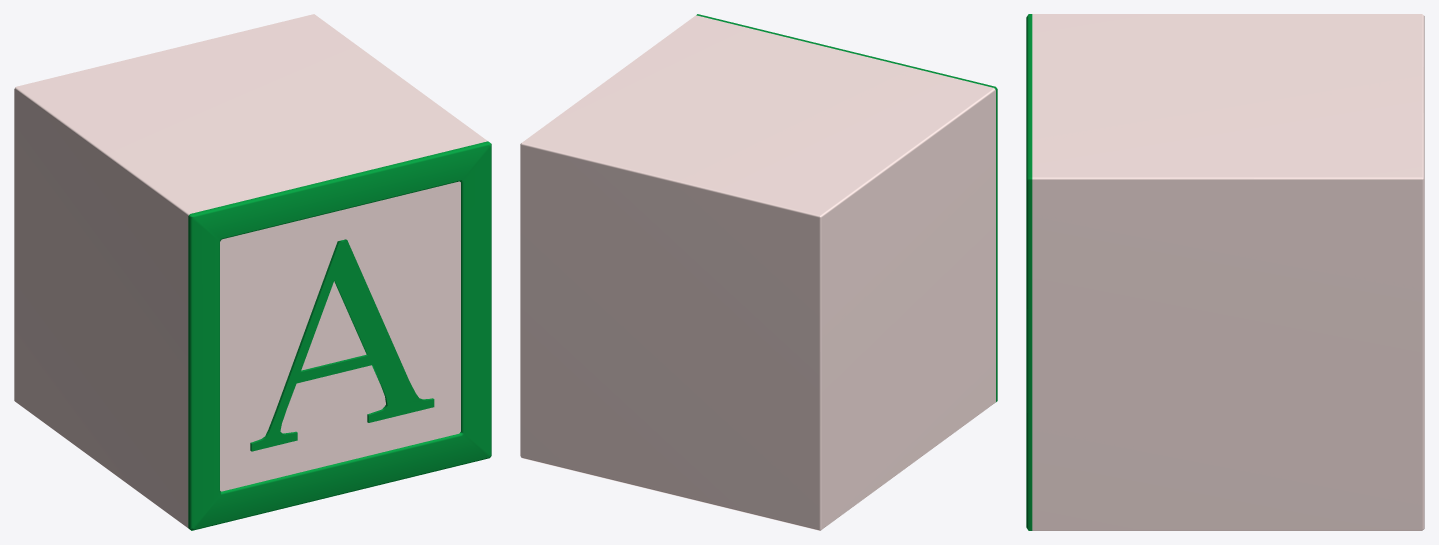
File: Store_9_Toy_Cube_A.glb
3 renders of one model, left to right at view 1: azimuth 30°, elevation 25°; view 2: azimuth 150°, elevation 25°; view 3: azimuth 270°, elevation 25°, orthographic. The views are drawn at different scales.
Visible parts, largest first — view 1: Store_9_Toy_Cube_A; view 2: Store_9_Toy_Cube_A; view 3: Store_9_Toy_Cube_A.
Part boxes in pixels (x1,y1,x2,y2): Store_9_Toy_Cube_A: (14, 14, 491, 530); Store_9_Toy_Cube_A: (520, 14, 997, 530); Store_9_Toy_Cube_A: (1026, 14, 1424, 530).
Bounding box in the file's own units: 1.13 × 1.13 × 1.15.
1 material, 1 textured.
